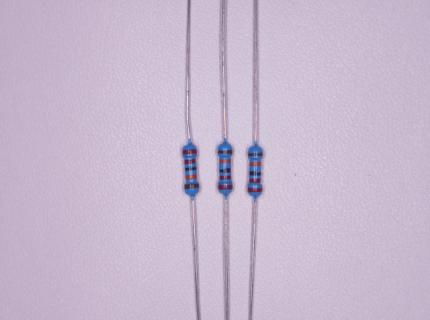Black band: (185, 166, 197, 172), (249, 171, 262, 176), (219, 168, 231, 173)
Brown band: (184, 183, 199, 189), (248, 152, 262, 157), (218, 150, 232, 154)
Orange band: (219, 159, 232, 164), (185, 174, 197, 179), (249, 162, 261, 166)
Red band: (182, 148, 197, 155), (248, 188, 262, 193), (185, 158, 196, 164), (218, 185, 233, 189), (249, 178, 261, 183), (219, 175, 231, 179)
